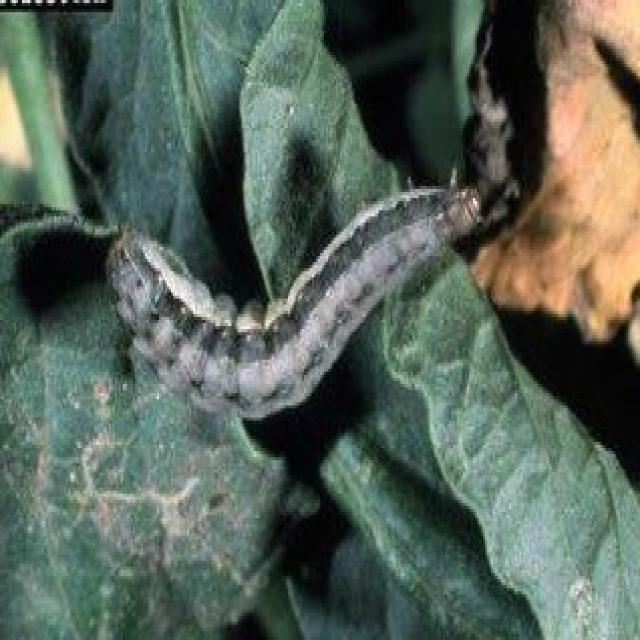army worm: (110, 170, 492, 435)
